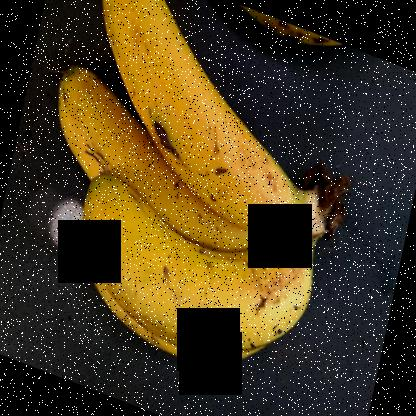ripe: (99, 0, 289, 232), (72, 182, 319, 353), (55, 70, 210, 224)
